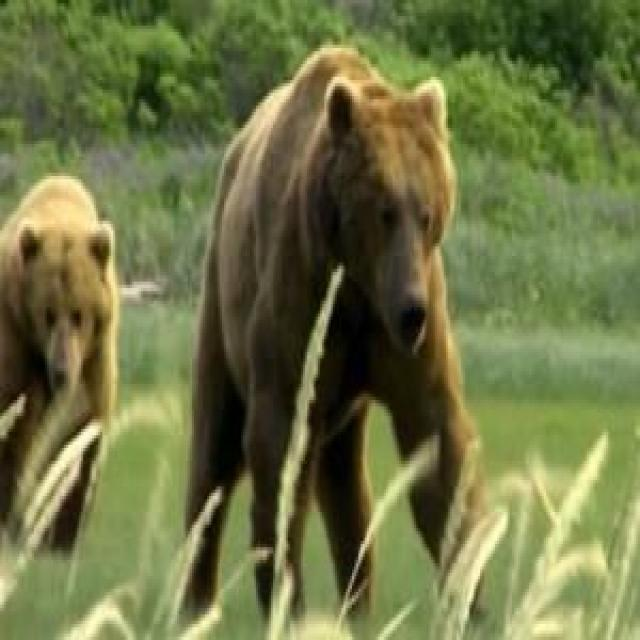Bear: (169, 45, 503, 640), (0, 176, 122, 614)
